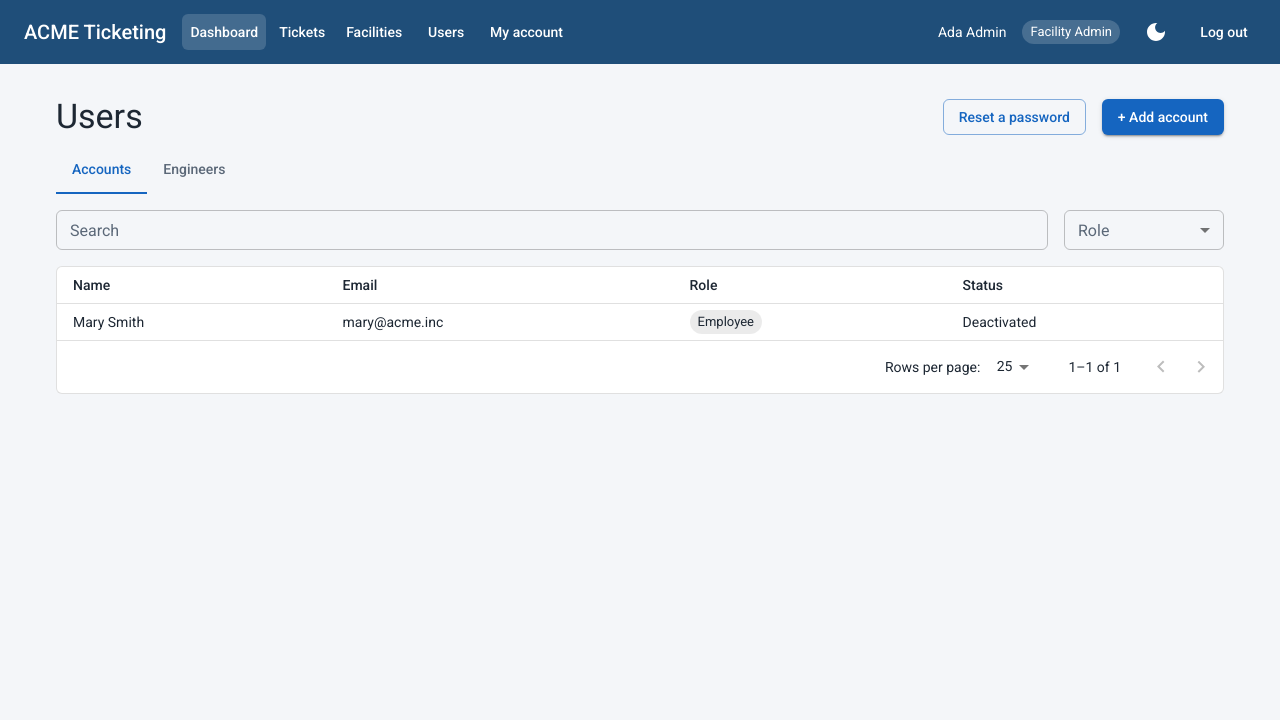
it: UsersPage › clicking an account opens it for editing
Click the text "Mary Smith" at (192, 322), box [57, 304, 326, 340]
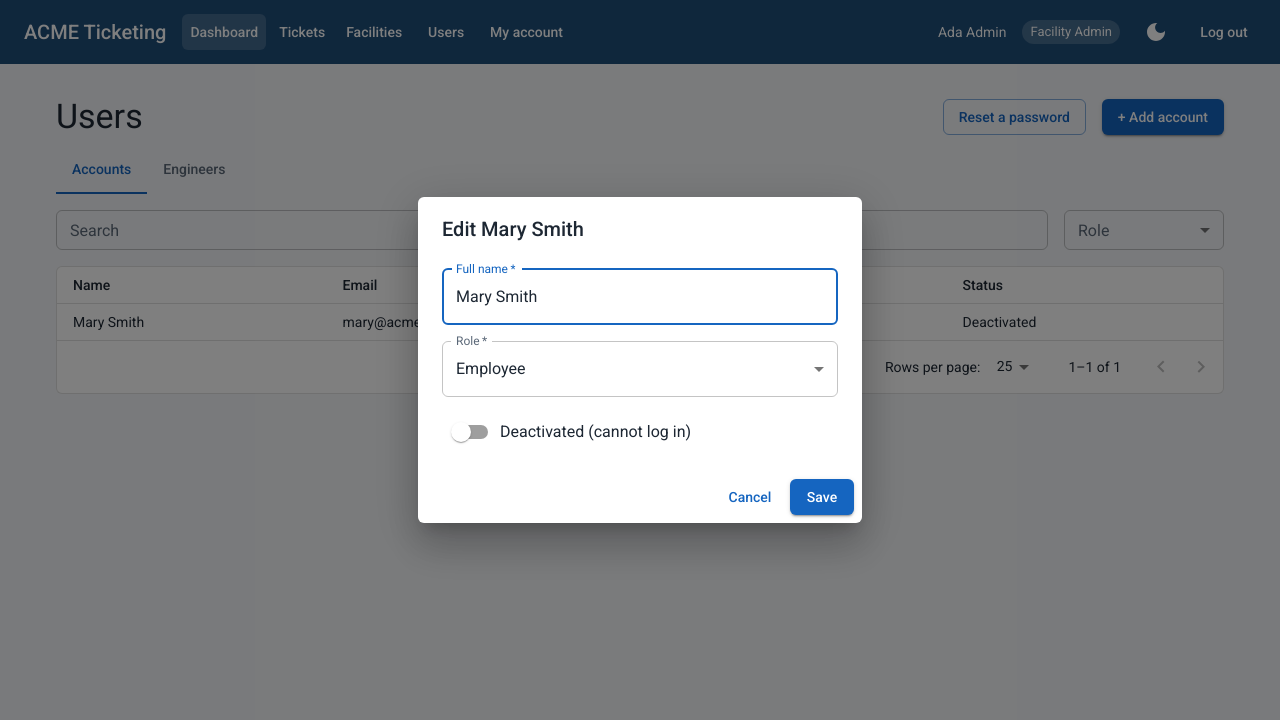
Check: the dialog "Edit Mary Smith" is shown, box [418, 197, 862, 523]
